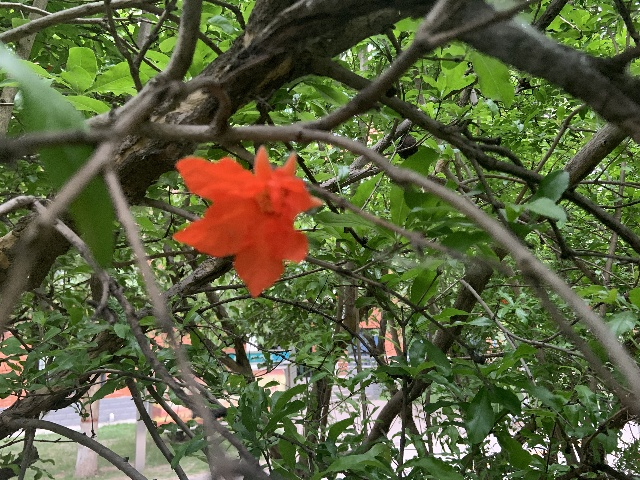flower: (173, 145, 322, 298)
